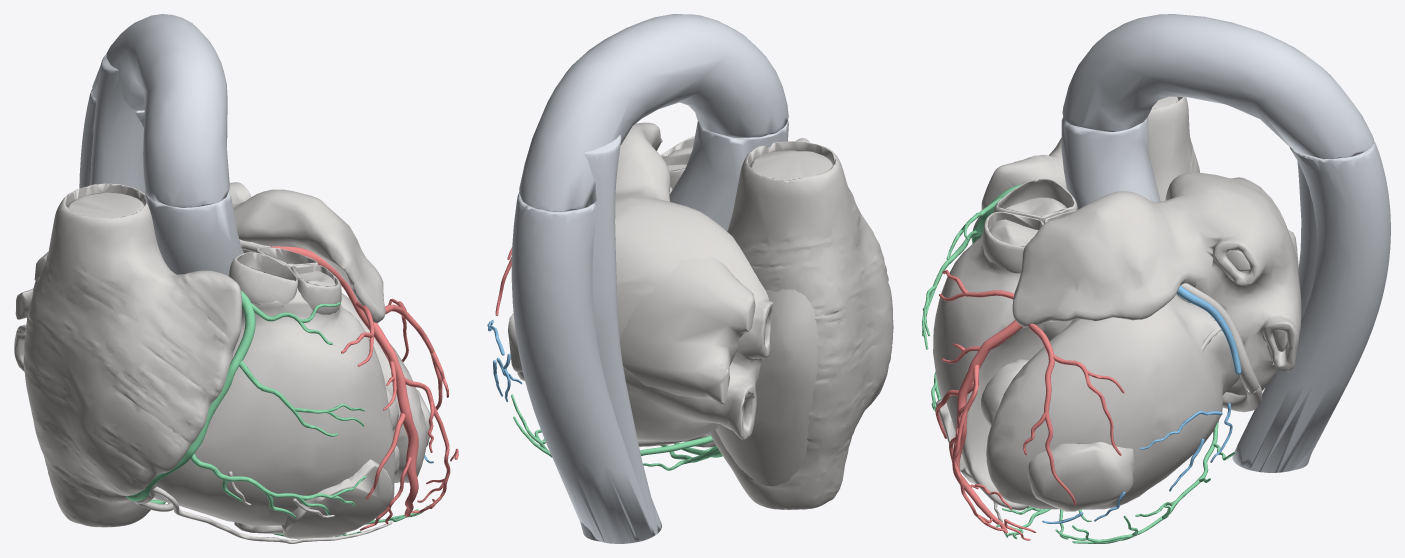
Rendered from heart.glb.
3 views of the same model, side by side, from view 1: azimuth 30°, elevation 25°; view 2: azimuth 150°, elevation 25°; view 3: azimuth 270°, elevation 25° (orthographic). The views are drawn at different scales.
Parts seen in each view (by area): view 1: HEART, AORTA, LAD, RCA; view 2: HEART, AORTA, RCA, LCX; view 3: HEART, AORTA, LAD, RCA, LCX.
Part boxes in pixels (box(x1,y1,x2,y2)): HEART: box(14, 182, 431, 543); AORTA: box(79, 14, 243, 275); LAD: box(271, 246, 458, 530); RCA: box(126, 290, 427, 539); HEART: box(508, 122, 893, 509); AORTA: box(511, 14, 788, 543); RCA: box(511, 394, 722, 470); LCX: box(487, 320, 522, 401); HEART: box(933, 96, 1301, 521); AORTA: box(1061, 14, 1390, 472); LAD: box(935, 270, 1124, 540); RCA: box(922, 184, 1235, 543); LCX: box(1042, 286, 1241, 523).
Size of the model in its own units: 0.1157 by 0.1422 by 0.1314.
